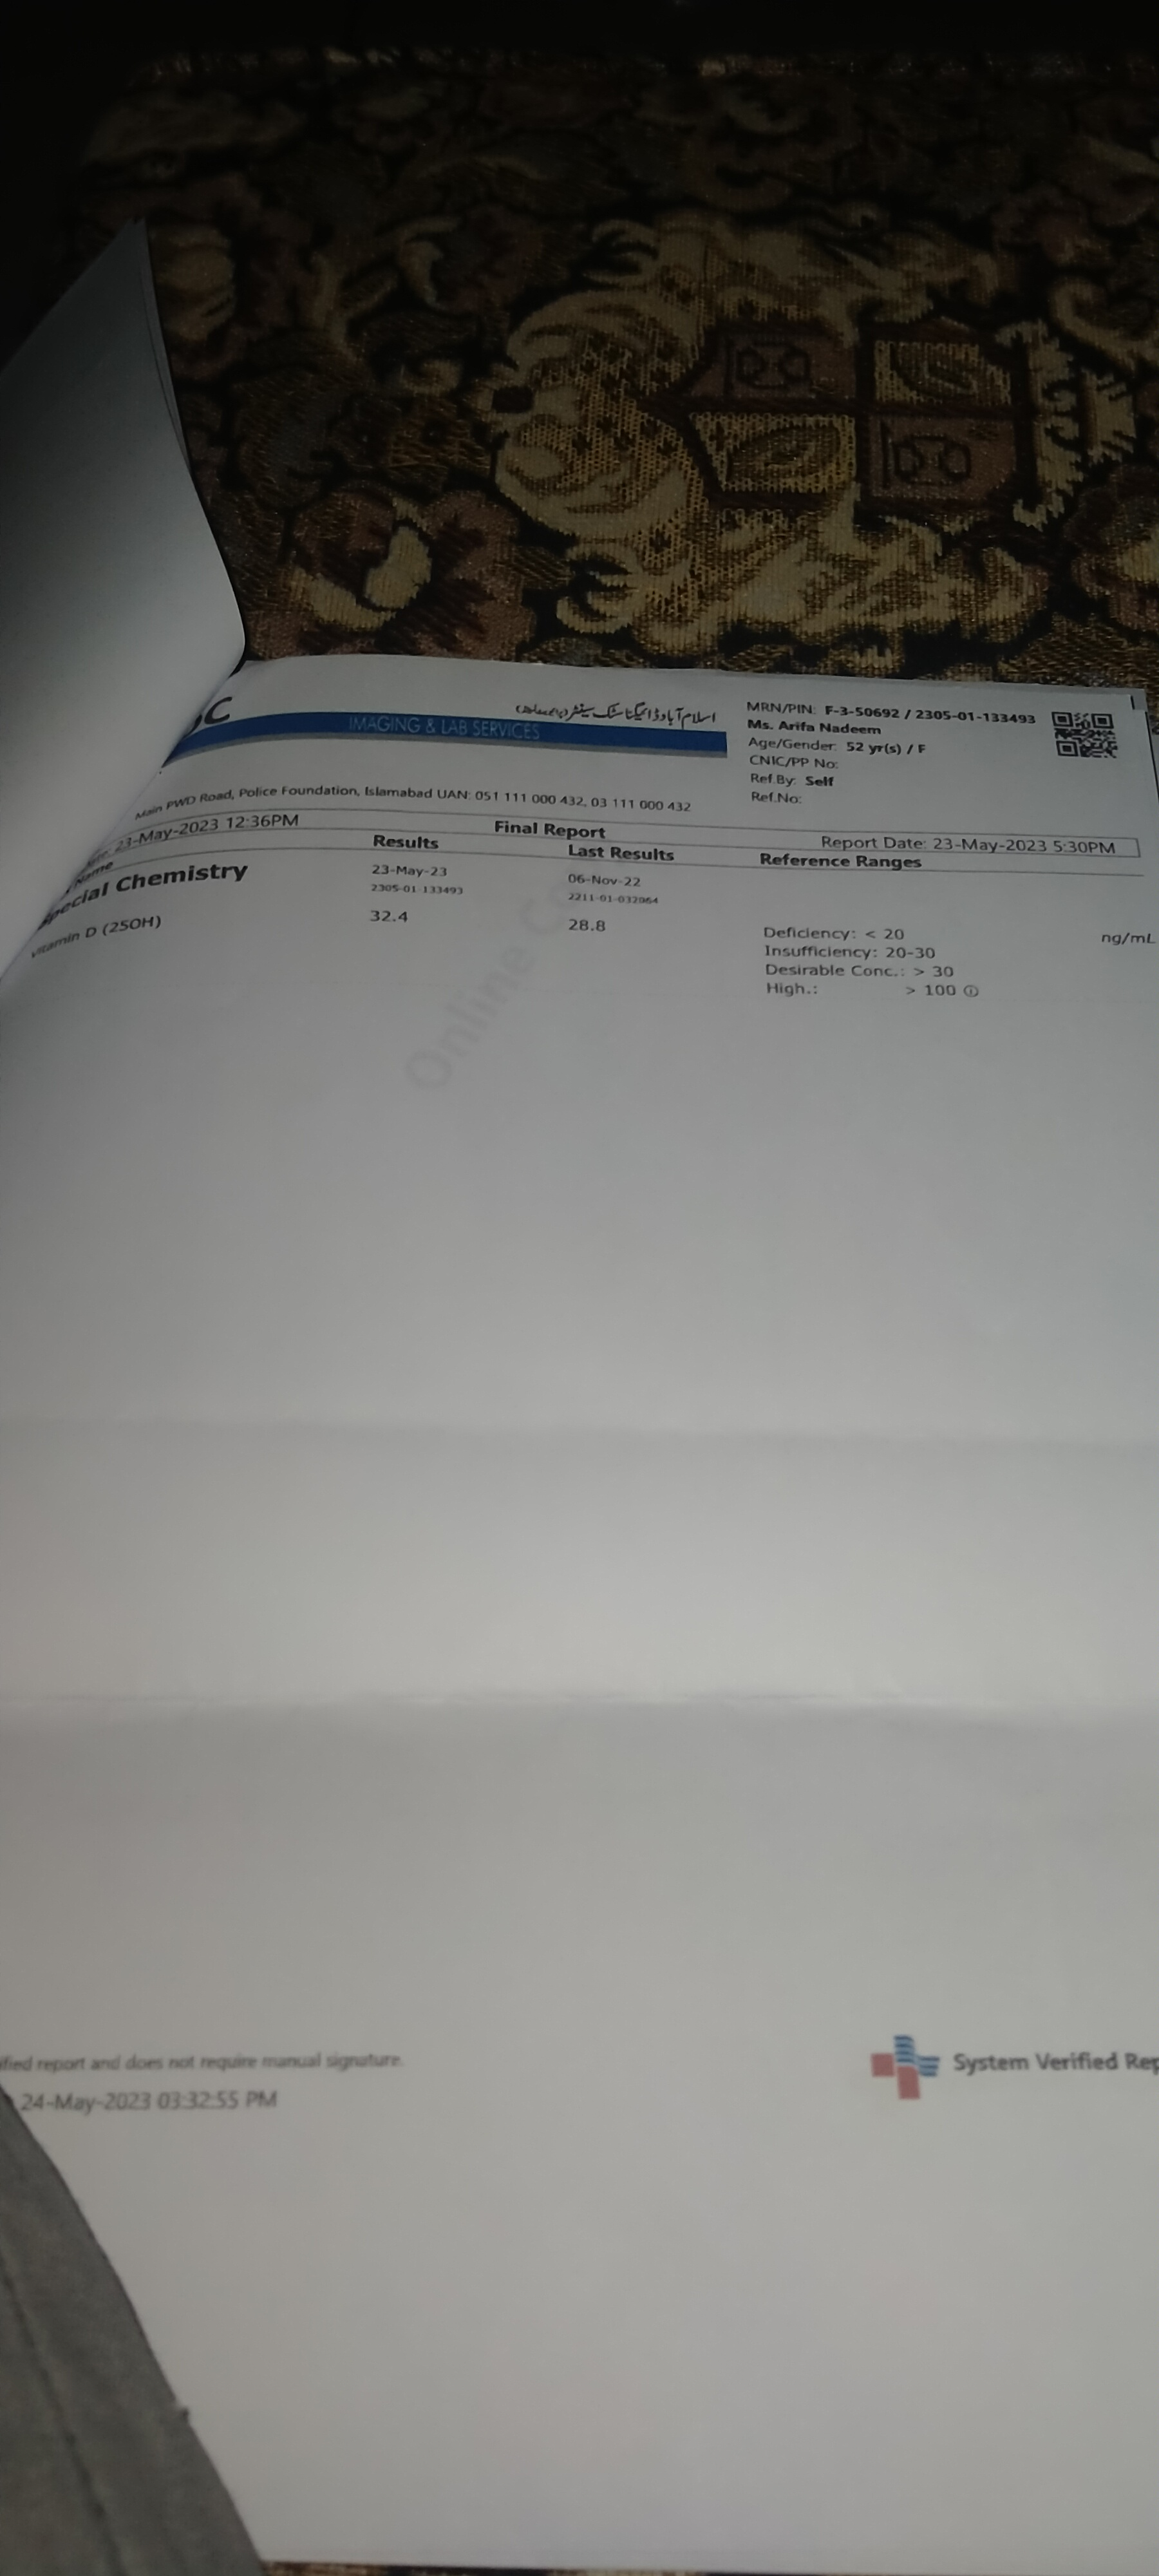report: (10, 849, 1159, 1053)
